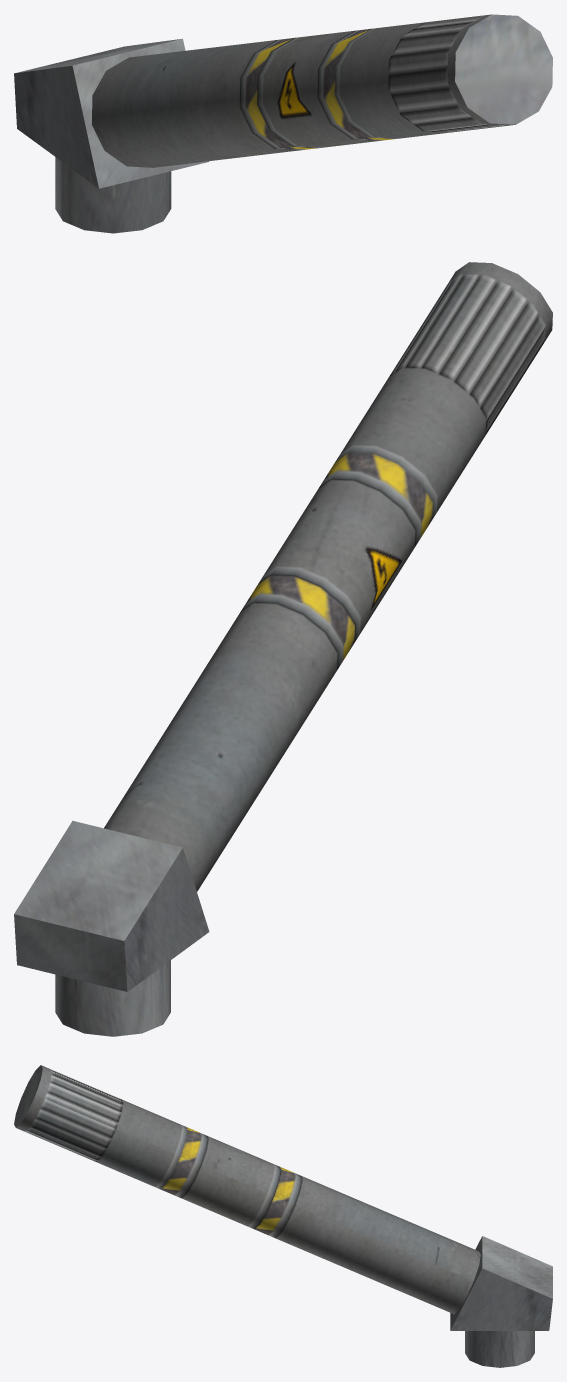
Rendered from arm2.obj.
3 views of the same model, one above another, from view 1: azimuth 30°, elevation 25°; view 2: azimuth 150°, elevation 25°; view 3: azimuth 270°, elevation 25° (orthographic). The views are drawn at different scales.
Parts seen in each view (by area): view 1: arm2; view 2: arm2; view 3: arm2.
Part boxes in pixels (x1,y1,x2,y2): arm2: [14, 14, 552, 233]; arm2: [14, 262, 552, 1036]; arm2: [14, 1065, 552, 1367].
Size of the model in its own units: 0.1152 by 0.4705 by 0.8074.
Materials: 1 (1 with a texture image).
